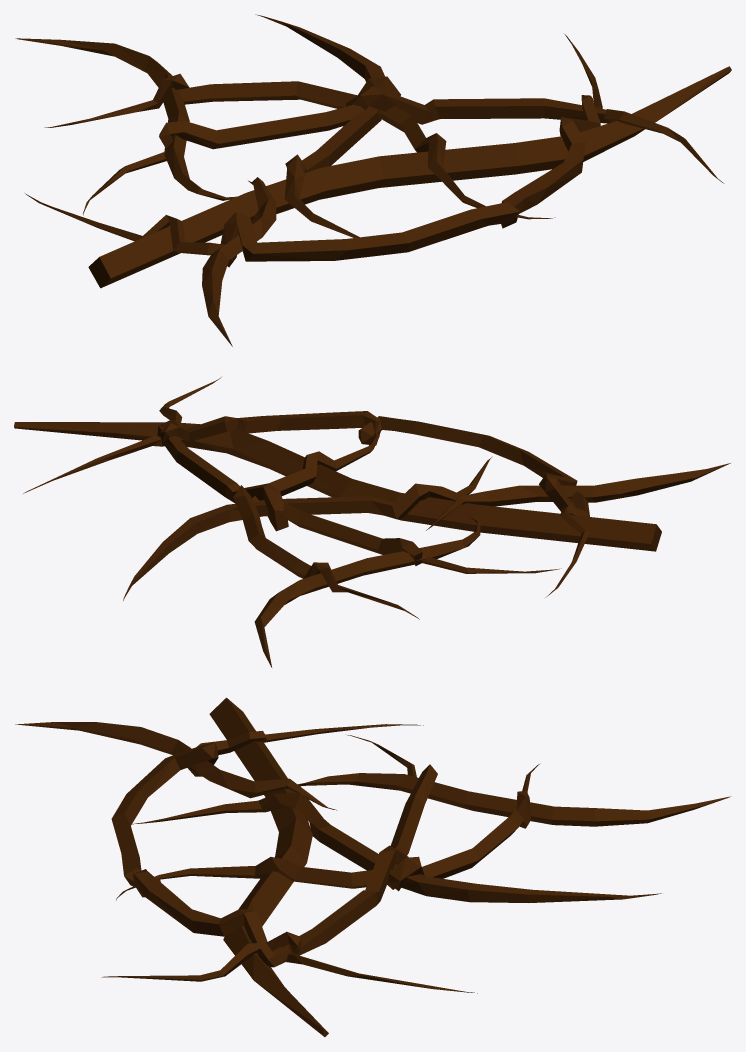
The picture shows the model from 3 angles, top to bottom: view 1: azimuth 30°, elevation 25°; view 2: azimuth 150°, elevation 25°; view 3: azimuth 270°, elevation 25°; orthographic projection. The views are drawn at different scales.
Parts seen in each view (by area): view 1: Root_01; view 2: Root_01; view 3: Root_01.
Boxes of the visible parts, x1,y1,x2,y2 form: Root_01: (15, 14, 731, 346); Root_01: (14, 377, 730, 667); Root_01: (15, 697, 731, 1036).
Bounding box in the file's own units: 341 × 24.63 × 320.
